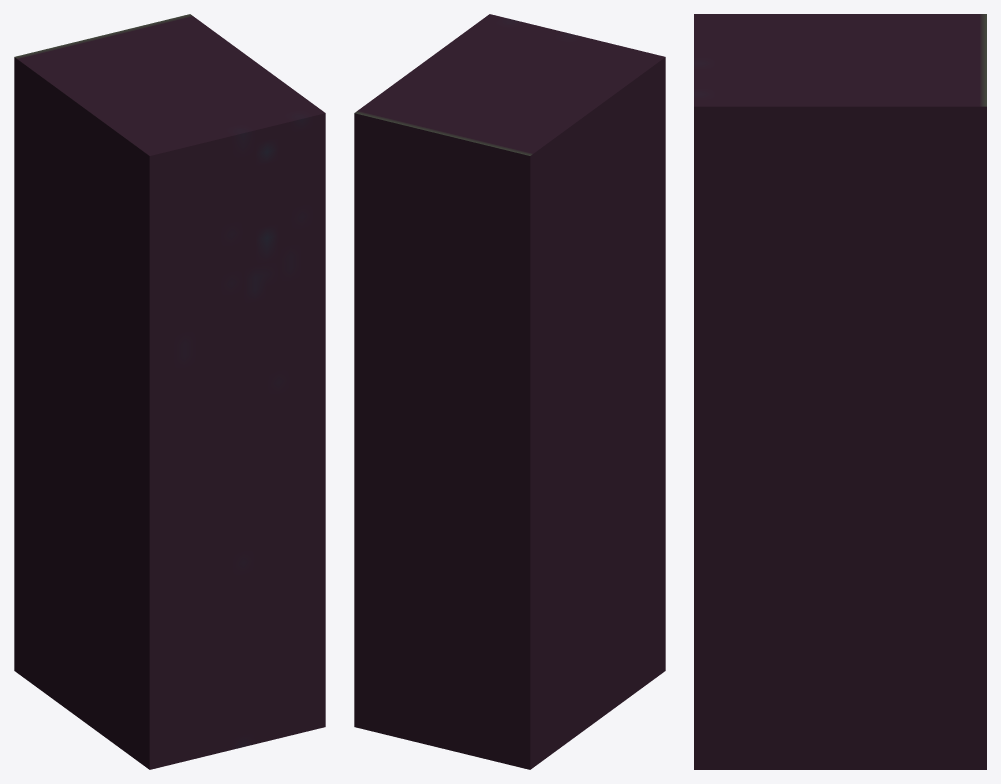
File: BuildingModule_N_00.fbx
The picture shows the model from 3 angles, left to right: view 1: azimuth 30°, elevation 25°; view 2: azimuth 150°, elevation 25°; view 3: azimuth 270°, elevation 25°; orthographic projection. The views are drawn at different scales.
Visible parts, largest first — view 1: BuildingModule_N_00; view 2: BuildingModule_N_00; view 3: BuildingModule_N_00.
Boxes of the visible parts, x1,y1,x2,y2 form: BuildingModule_N_00: (14,14,325,769); BuildingModule_N_00: (354,14,665,769); BuildingModule_N_00: (694,14,986,769).
Bounding box in the file's own units: 150 × 500 × 200.
